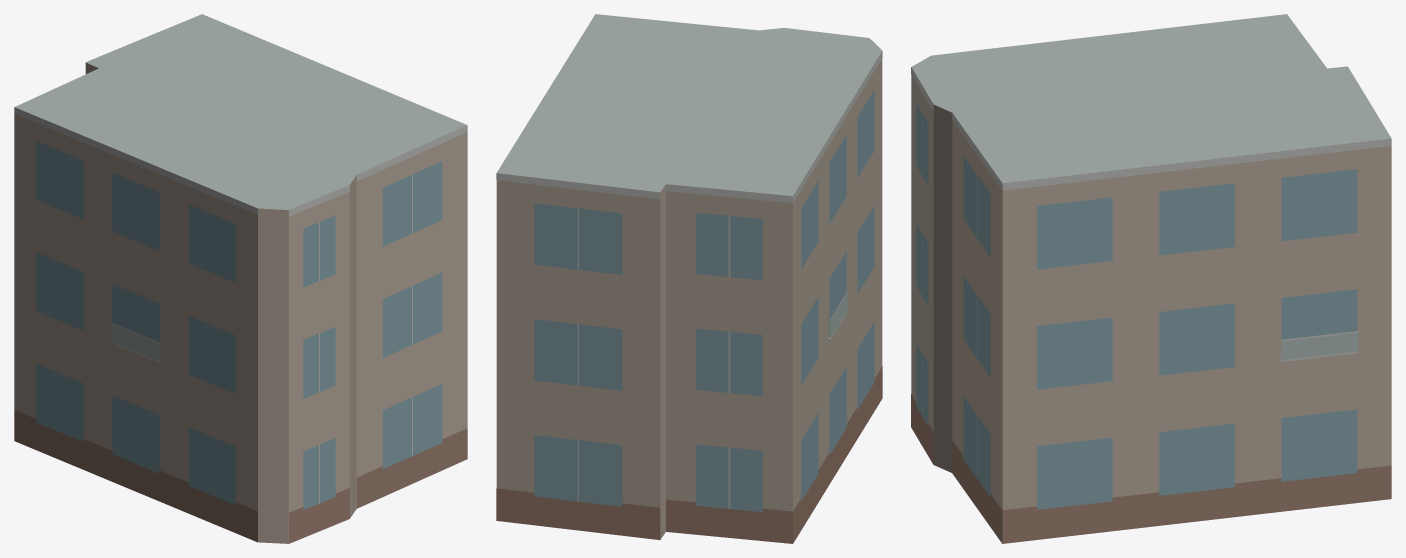
Rendered from survey-upis-32749597.glb.
3 views of the same model, side by side, from view 1: azimuth 30°, elevation 25°; view 2: azimuth 150°, elevation 25°; view 3: azimuth 270°, elevation 25° (orthographic). The views are drawn at different scales.
Parts seen in each view (by area): view 1: survey-upis-32749597.tmp; view 2: survey-upis-32749597.tmp; view 3: survey-upis-32749597.tmp.
Boxes of the visible parts, x1,y1,x2,y2 form: survey-upis-32749597.tmp: [14, 14, 467, 543]; survey-upis-32749597.tmp: [496, 14, 882, 543]; survey-upis-32749597.tmp: [911, 14, 1391, 543].
Size of the model in its own units: 12.1 by 12 by 14.5.
